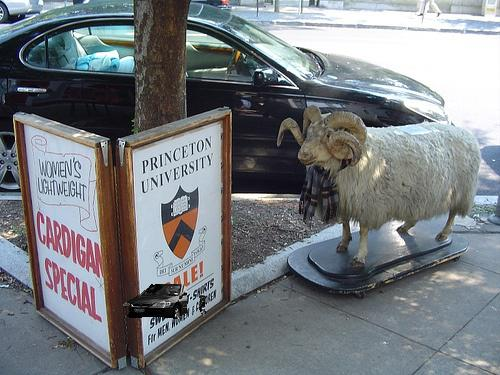tampered: (124, 285, 206, 319)
